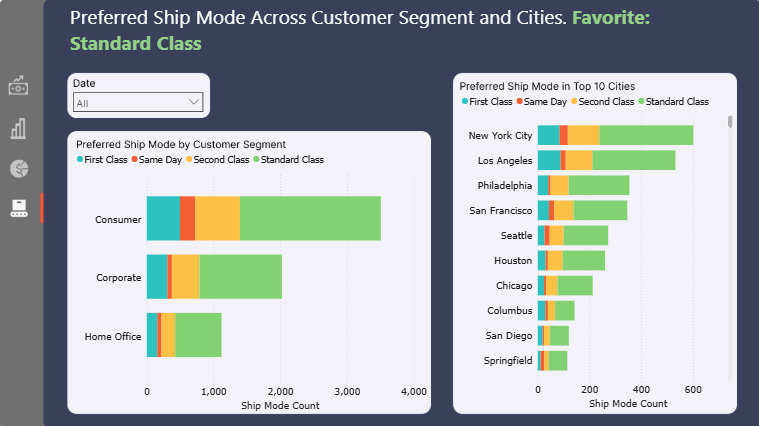

What the dashboard file says about the page in this screenshot:
{"tool":"powerbi","page":{"name":"Page 4","canvas":[1280,720],"ordinal":3},"visuals":[{"type":"barChart","fields":{"Category":["Customers.Segment"],"Series":["SalesTransaction.Ship Mode"],"Y":["CountNonNull(SalesTransaction.Ship Mode)"]},"box":[133.7,243.9,595.1,446.7],"z":0},{"type":"barChart","fields":{"Series":["SalesTransaction.Ship Mode"],"Y":["CountNonNull(SalesTransaction.Ship Mode)"],"Category":["Customers.City"]},"box":[774.4,146.9,462.9,540.7],"z":1000},{"type":"slicer","fields":{"Values":["SalesTransaction.Ship Date.Variation.Date Hierarchy.Year","SalesTransaction.Ship Date.Variation.Date Hierarchy.Quarter","SalesTransaction.Ship Date.Variation.Date Hierarchy.Month"]},"box":[123.4,142.5,236.6,51.4],"z":2000},{"type":"textbox","box":[123.4,0,1113.8,108.7],"z":3000},{"type":"actionButton","box":[11.8,186.6,70.5,55.8],"z":4000},{"type":"actionButton","box":[8.8,116.1,70.5,55.8],"z":4001},{"type":"actionButton","box":[11.8,254.2,70.5,55.8],"z":4002}]}

Visuals, with their boxes on the page's 1280x720 design canvas (x1, y1, x2, y2). These are canvas units, not pixel positions in the 759x426 screenshot, which may show the page scaled, cropped or inside an application window:
barChart - Customers.Segment x SalesTransaction.Ship Mode: left=134, top=244, right=729, bottom=691
barChart - SalesTransaction.Ship Mode x CountNonNull(SalesTransaction.Ship Mode): left=774, top=147, right=1237, bottom=688
slicer - SalesTransaction.Ship Date.Variation.Date Hierarchy.Year x SalesTransaction.Ship Date.Variation.Date Hierarchy.Quarter: left=123, top=142, right=360, bottom=194
textbox: left=123, top=0, right=1237, bottom=109
actionButton: left=12, top=187, right=82, bottom=242
actionButton: left=9, top=116, right=79, bottom=172
actionButton: left=12, top=254, right=82, bottom=310
